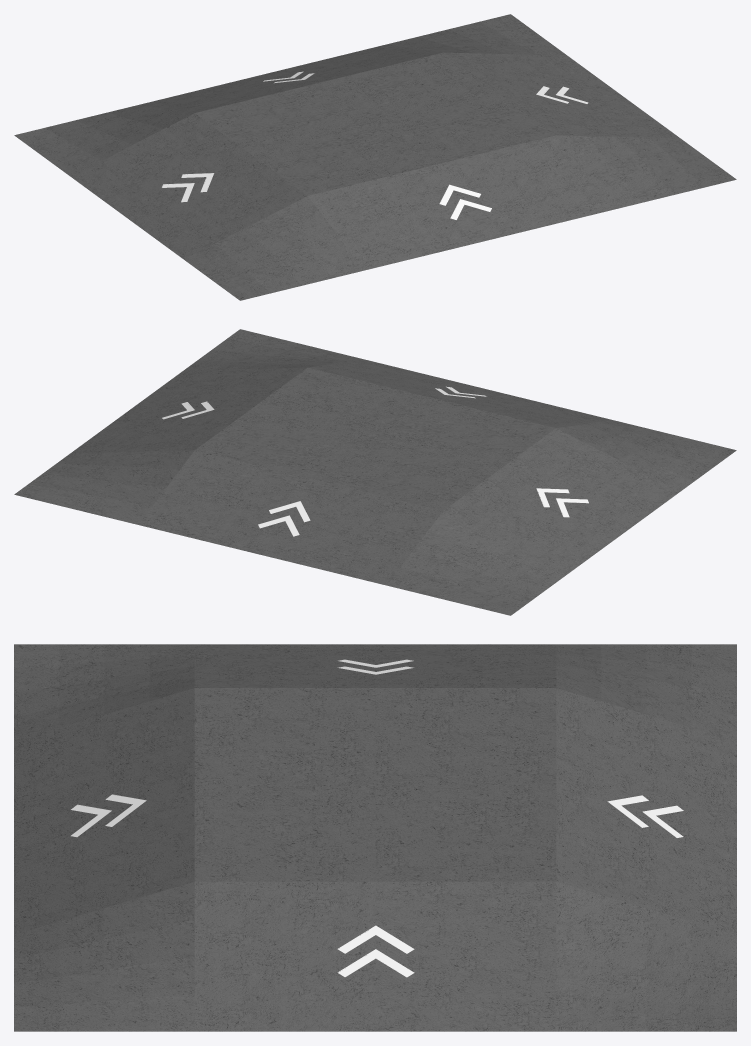
File: Ramp 4.fbx
The picture shows the model from 3 angles, top to bottom: view 1: azimuth 30°, elevation 25°; view 2: azimuth 150°, elevation 25°; view 3: azimuth 270°, elevation 25°; orthographic projection. The views are drawn at different scales.
Parts seen in each view (by area): view 1: Ramp, White arrow; view 2: Ramp, White arrow; view 3: Ramp, White arrow.
Part boxes in pixels (box(x1,y1,x2,y2)): Ramp: box(14, 14, 736, 300); White arrow: box(162, 71, 588, 219); Ramp: box(14, 329, 736, 615); White arrow: box(162, 386, 588, 536); Ramp: box(14, 644, 736, 1031); White arrow: box(71, 659, 683, 977).
Size of the model in its own units: 1391 by 88.94 by 1097.
